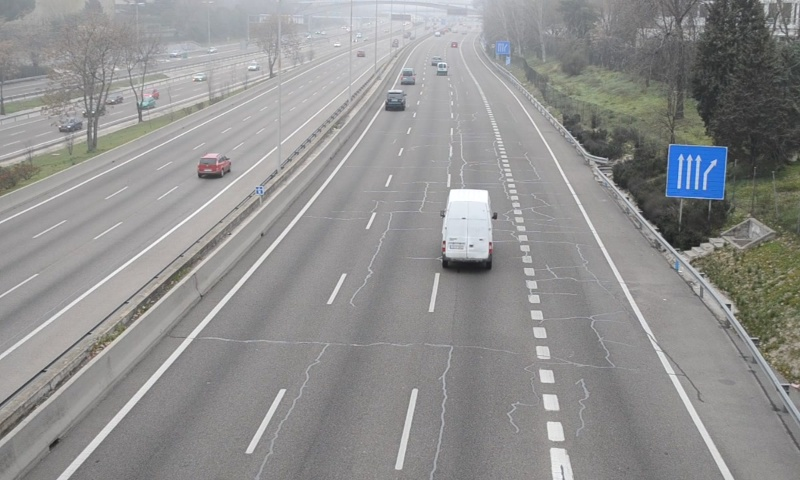car: (385, 90, 406, 111)
van: (441, 189, 493, 268), (400, 66, 415, 86)
